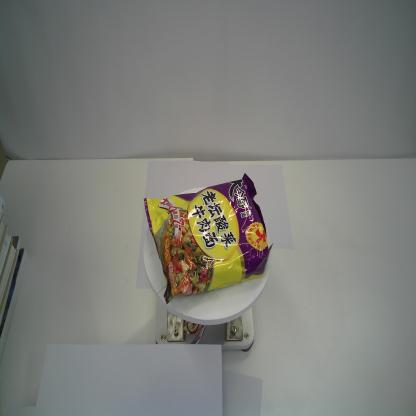Instant Noodles: (143, 172, 274, 306)
